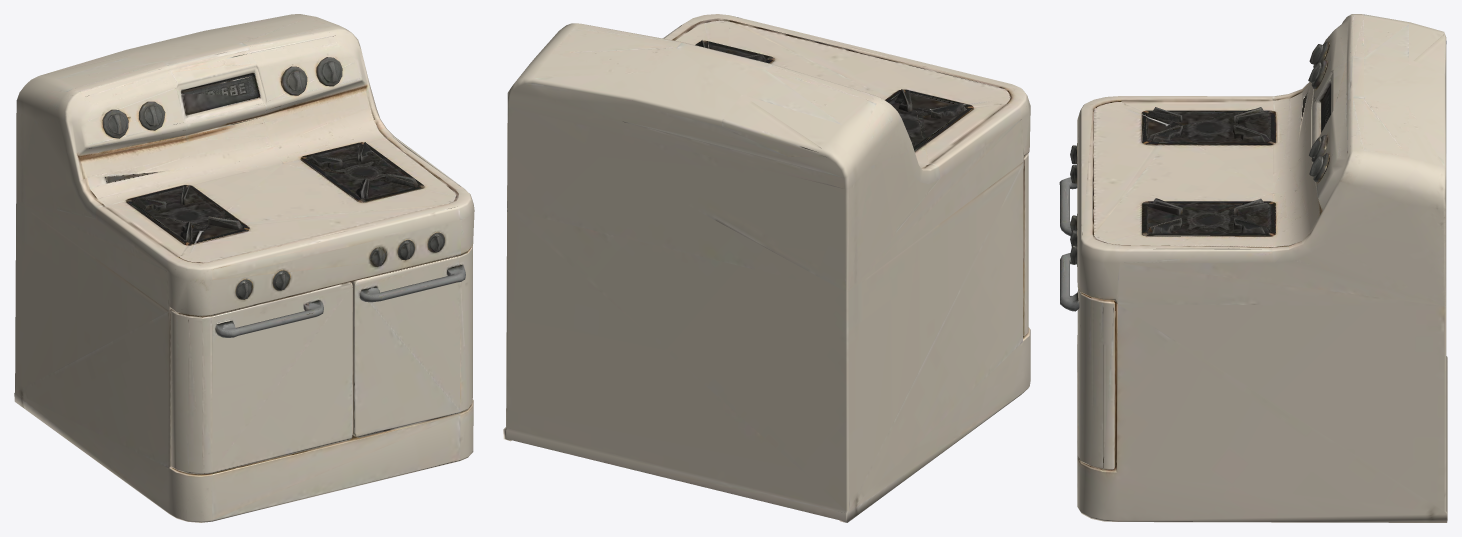
The model's file is stove.glb.
The picture shows the model from 3 angles, left to right: view 1: azimuth 30°, elevation 25°; view 2: azimuth 150°, elevation 25°; view 3: azimuth 270°, elevation 25°; orthographic projection. The views are drawn at different scales.
Size of the model in its own units: 0.878 by 0.9521 by 0.9131.
1 material, 1 textured.
